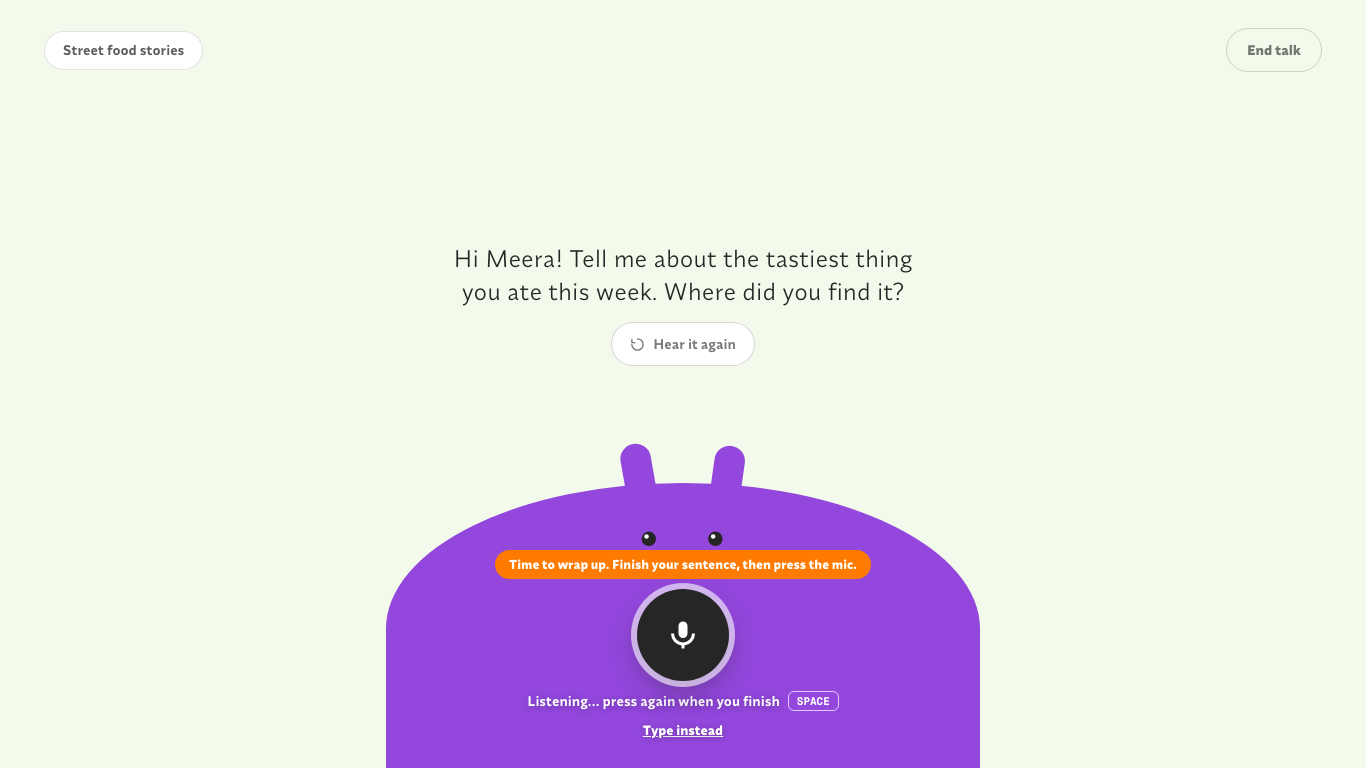
Test case: a long answer › is asked to wrap up 45 seconds after the mic first heard it
This screenshot has width=1366, height=768.
Check: the text "Time to wrap up. Finish your sentence, then press the mic." is shown, box [495, 550, 871, 579]
Click the button named "Stop and send" at (683, 635), box [637, 589, 729, 681]
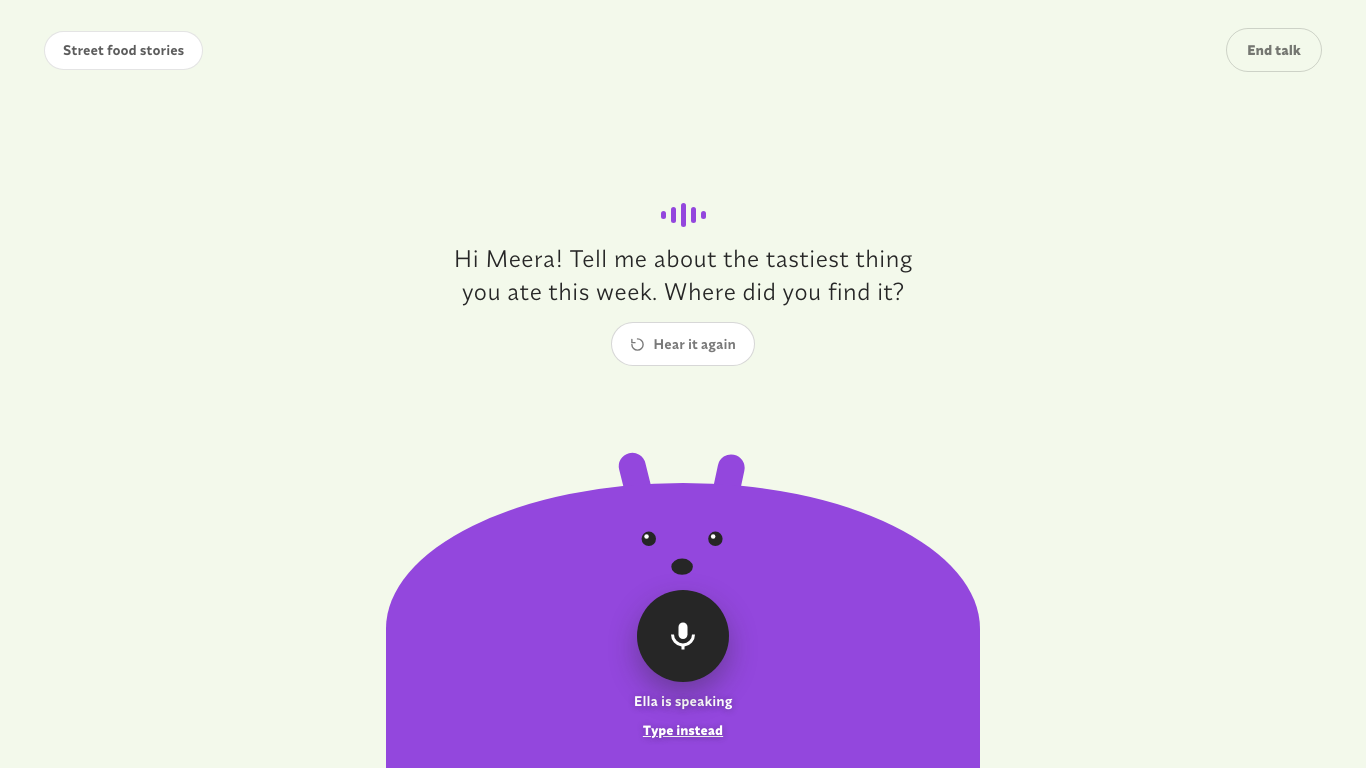
Check: the text "Time to wrap up" is gone
